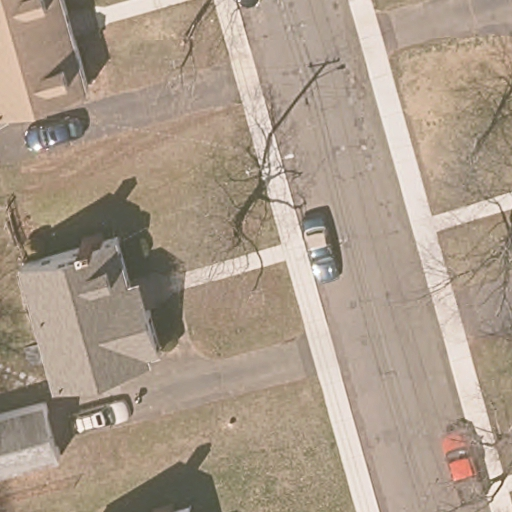DT: (246, 133, 295, 178)
